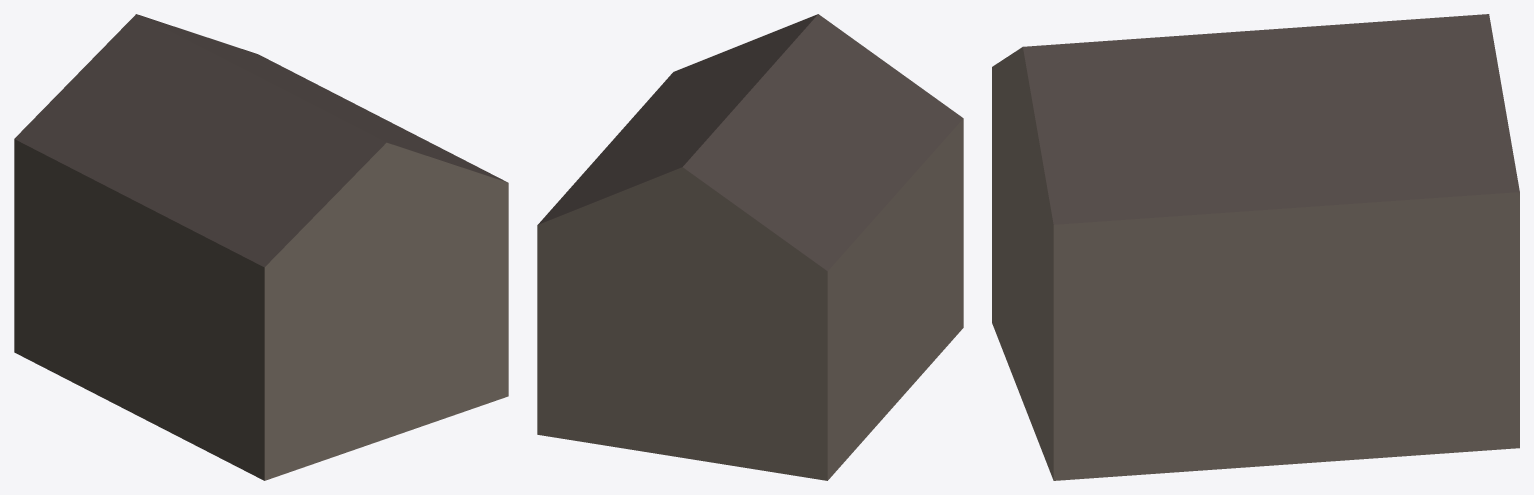
3 views of the same model, side by side, from view 1: azimuth 30°, elevation 25°; view 2: azimuth 150°, elevation 25°; view 3: azimuth 270°, elevation 25° (orthographic). The views are drawn at different scales.
Visible parts, largest first — view 1: HP-w1424106475; view 2: HP-w1424106475; view 3: HP-w1424106475.
Part boxes in pixels (x1,y1,x2,y2): HP-w1424106475: [14, 14, 508, 480]; HP-w1424106475: [537, 14, 963, 480]; HP-w1424106475: [992, 14, 1519, 480].
Size of the model in its own units: 9.59 by 8.32 by 11.21.
